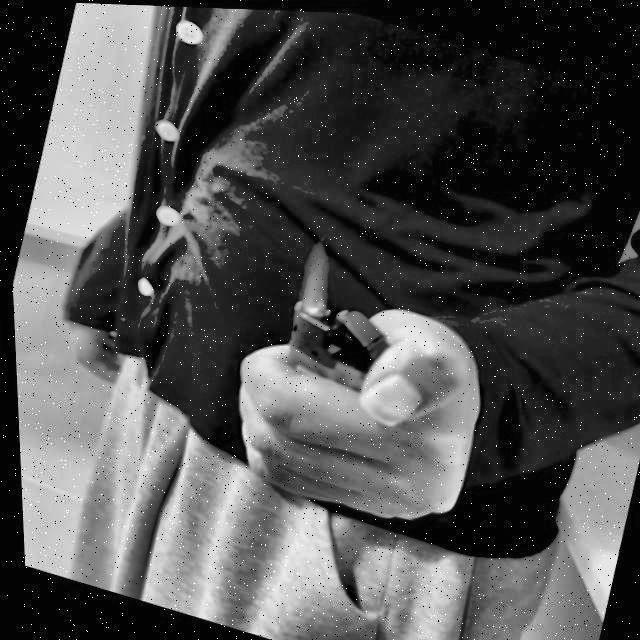Fire: (290, 235, 332, 314)
